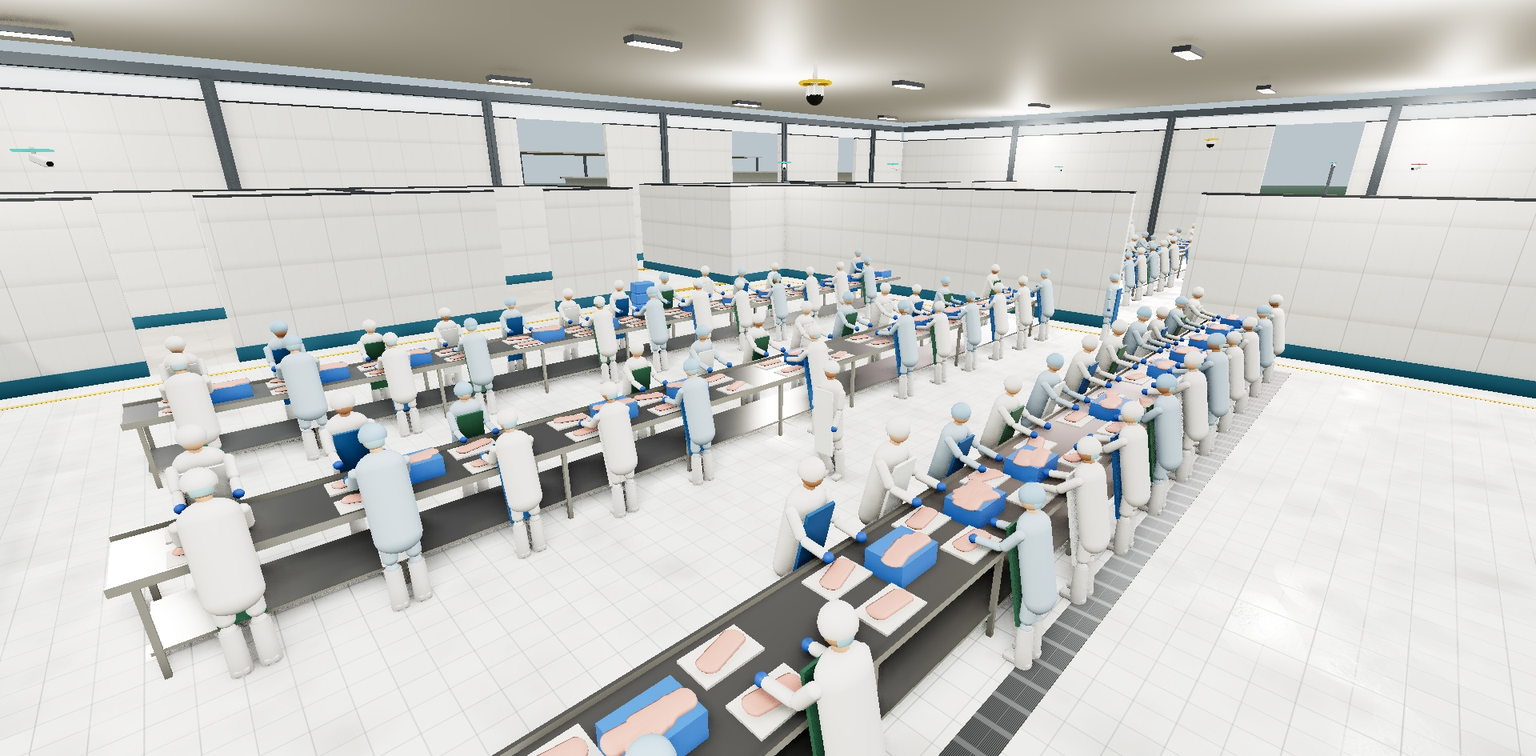apron: (182, 503, 268, 631), (797, 641, 871, 756), (177, 456, 251, 563), (355, 456, 422, 568), (994, 514, 1048, 628), (786, 492, 835, 617), (328, 421, 387, 517), (870, 449, 917, 558), (1052, 466, 1102, 567), (1096, 429, 1144, 520), (168, 379, 223, 457), (492, 436, 539, 524), (1132, 400, 1176, 483), (935, 429, 975, 515), (282, 359, 329, 432), (166, 360, 215, 430), (451, 406, 493, 483), (1161, 377, 1203, 453), (595, 407, 633, 487), (987, 401, 1025, 479), (270, 343, 312, 409), (1185, 357, 1224, 428), (1030, 377, 1066, 450), (1065, 358, 1100, 426), (677, 383, 709, 456), (381, 353, 417, 413), (1094, 342, 1128, 405), (625, 363, 655, 429), (1207, 351, 1240, 410), (1120, 328, 1152, 388), (361, 339, 394, 393), (1224, 337, 1256, 392), (461, 338, 492, 394), (801, 346, 827, 410), (812, 386, 835, 458), (691, 346, 717, 408), (1239, 324, 1269, 376), (1251, 313, 1281, 363), (437, 326, 466, 377), (889, 320, 914, 376), (1141, 325, 1169, 375), (747, 333, 770, 390), (590, 314, 615, 365), (502, 315, 528, 364), (1161, 314, 1187, 362), (795, 320, 817, 375), (1178, 304, 1204, 350), (836, 310, 858, 362), (560, 305, 583, 352), (643, 304, 665, 353), (873, 301, 894, 350), (926, 318, 947, 365), (957, 308, 978, 353), (689, 295, 709, 342), (611, 297, 632, 341), (984, 299, 1005, 342), (656, 289, 676, 332), (1009, 291, 1029, 333), (1031, 284, 1051, 324), (905, 300, 924, 341), (697, 282, 715, 323), (934, 292, 952, 332), (983, 279, 1001, 316), (732, 295, 749, 334), (769, 287, 784, 326), (802, 281, 817, 318), (832, 275, 847, 311), (859, 270, 874, 305), (1110, 288, 1123, 326), (735, 282, 749, 317), (1117, 263, 1133, 293), (768, 276, 782, 310), (1129, 259, 1145, 288), (850, 261, 864, 293)
glove: (750, 664, 773, 696), (798, 631, 819, 659), (629, 741, 657, 756), (820, 547, 837, 568), (174, 523, 192, 542), (853, 527, 870, 547), (172, 500, 189, 518), (237, 506, 254, 524), (231, 485, 247, 502), (341, 472, 357, 489), (909, 494, 925, 511), (966, 530, 982, 547), (987, 514, 1002, 531), (934, 479, 949, 495), (331, 458, 346, 473), (1023, 478, 1038, 493), (390, 459, 404, 475), (1040, 466, 1055, 480), (377, 446, 391, 460), (975, 462, 989, 476), (992, 451, 1006, 465), (1071, 440, 1085, 454), (1085, 431, 1098, 444), (478, 450, 490, 463), (1027, 429, 1040, 441), (1110, 412, 1123, 424), (1042, 420, 1054, 432), (1121, 404, 1134, 415), (458, 434, 469, 446), (512, 440, 523, 452), (577, 417, 588, 429), (1070, 402, 1082, 413), (1081, 395, 1093, 406), (1139, 386, 1151, 397), (829, 423, 840, 435), (163, 391, 174, 402), (604, 410, 615, 421), (163, 383, 174, 393), (203, 384, 214, 394), (491, 426, 501, 437), (1103, 380, 1114, 390), (1113, 374, 1124, 384), (1149, 380, 1160, 390), (201, 377, 211, 387), (274, 370, 284, 380), (638, 384, 648, 394), (1173, 361, 1184, 370), (1165, 367, 1176, 376), (270, 364, 280, 373), (308, 365, 318, 374), (684, 388, 693, 398), (661, 395, 670, 405), (1130, 362, 1140, 371), (1139, 357, 1149, 366), (816, 414, 825, 424), (303, 359, 312, 368), (661, 379, 670, 388), (799, 350, 808, 359), (782, 355, 791, 364), (1155, 347, 1165, 355), (706, 366, 714, 375), (762, 350, 770, 359), (1163, 342, 1172, 350), (1194, 361, 1203, 369), (373, 362, 381, 370), (725, 361, 733, 369), (779, 346, 787, 354), (1200, 357, 1209, 364), (1217, 342, 1226, 349), (1212, 346, 1221, 353), (1193, 327, 1202, 334), (1224, 331, 1233, 338), (364, 356, 372, 363), (389, 352, 397, 359), (399, 358, 407, 365), (474, 342, 482, 349), (451, 346, 459, 353), (812, 336, 819, 344), (826, 333, 834, 340), (903, 311, 911, 318), (1172, 340, 1180, 347), (1178, 336, 1186, 343), (1199, 324, 1207, 331), (1229, 328, 1237, 335), (1238, 320, 1246, 327), (442, 341, 449, 348), (464, 337, 471, 344), (508, 329, 515, 336), (854, 325, 861, 332), (867, 322, 874, 329), (887, 326, 894, 333), (874, 329, 881, 336), (892, 314, 899, 321), (1210, 317, 1218, 323), (1214, 314, 1222, 320), (1242, 317, 1250, 323), (567, 319, 574, 325), (579, 322, 586, 328), (618, 309, 625, 315), (647, 308, 653, 315), (631, 311, 637, 318), (691, 300, 698, 306), (922, 322, 929, 328), (912, 325, 919, 331), (944, 315, 951, 321), (528, 326, 534, 332), (585, 316, 591, 322), (597, 319, 603, 325), (666, 300, 672, 306), (677, 302, 683, 308), (921, 311, 927, 317), (954, 312, 960, 318), (981, 303, 987, 309), (999, 298, 1005, 304), (634, 307, 640, 312), (680, 298, 686, 303), (707, 293, 713, 298), (720, 291, 726, 296), (931, 309, 937, 314), (951, 303, 957, 308), (959, 301, 965, 306), (973, 306, 979, 311), (1006, 296, 1012, 301), (1026, 288, 1032, 293), (1019, 290, 1025, 295), (1106, 307, 1112, 312), (1111, 305, 1117, 310), (734, 300, 739, 305), (723, 302, 728, 307), (744, 291, 749, 296), (755, 289, 760, 294), (770, 292, 775, 297), (759, 294, 764, 299), (802, 285, 807, 290), (1126, 263, 1131, 267), (787, 283, 791, 288), (792, 287, 797, 291), (832, 280, 837, 284), (858, 274, 863, 278), (849, 276, 854, 280), (1000, 289, 1005, 293), (1007, 287, 1012, 291), (1123, 264, 1127, 268), (777, 285, 781, 289), (823, 282, 827, 286), (861, 269, 865, 273), (869, 268, 873, 272), (1114, 268, 1118, 271), (1110, 269, 1114, 272)
hairnet: (805, 580, 870, 654), (607, 704, 690, 756), (173, 456, 221, 500), (791, 446, 835, 488), (1010, 472, 1053, 512), (351, 413, 392, 450), (880, 407, 919, 442), (170, 416, 210, 450), (1070, 428, 1108, 461), (324, 384, 359, 413), (1115, 394, 1150, 422), (946, 396, 978, 423), (491, 402, 522, 429), (1150, 368, 1183, 392), (999, 370, 1029, 393), (595, 376, 623, 400), (1179, 346, 1209, 368), (449, 376, 477, 399), (163, 348, 192, 370), (1042, 348, 1070, 369), (1202, 328, 1231, 348), (278, 329, 305, 350), (678, 353, 703, 375), (161, 332, 188, 352), (1078, 331, 1104, 350), (266, 317, 291, 335), (820, 357, 844, 375), (1108, 316, 1133, 333), (625, 337, 648, 355), (1222, 327, 1246, 344), (804, 320, 826, 338), (1134, 303, 1157, 319), (692, 321, 713, 338), (379, 329, 401, 345), (1239, 314, 1261, 329), (1253, 302, 1275, 316), (749, 309, 768, 325), (359, 316, 379, 331), (460, 315, 480, 330), (894, 297, 914, 312), (435, 304, 454, 318), (1153, 304, 1173, 317), (1266, 292, 1286, 305), (798, 298, 816, 312), (590, 293, 608, 306), (840, 289, 858, 302), (877, 280, 895, 293), (1190, 284, 1208, 297), (1173, 294, 1192, 306), (502, 294, 519, 307), (931, 298, 948, 311), (643, 284, 660, 296), (560, 286, 576, 298), (690, 276, 706, 288), (990, 280, 1007, 291), (611, 278, 627, 289), (963, 289, 979, 300), (657, 270, 672, 281), (910, 282, 925, 293), (939, 274, 954, 285), (1015, 274, 1031, 284), (1038, 267, 1053, 277), (698, 264, 712, 274), (733, 278, 747, 288), (989, 262, 1003, 272), (770, 271, 783, 281), (861, 255, 874, 264), (1108, 272, 1122, 280), (736, 266, 748, 275), (804, 265, 816, 274), (834, 260, 846, 269), (1123, 250, 1135, 258), (769, 261, 781, 269), (853, 247, 864, 255), (1136, 246, 1147, 253)
person: (149, 441, 298, 697), (749, 547, 925, 756), (954, 457, 1089, 686), (758, 432, 875, 684), (149, 406, 278, 623), (325, 401, 448, 625), (1010, 415, 1140, 617), (843, 397, 956, 616), (538, 647, 757, 756), (1057, 384, 1179, 565), (304, 376, 411, 567), (1095, 360, 1210, 524), (912, 388, 1012, 562), (1124, 339, 1234, 490), (469, 393, 559, 569), (964, 363, 1061, 522), (148, 341, 242, 496), (1150, 323, 1254, 462), (1006, 343, 1101, 489), (572, 368, 651, 526), (432, 370, 513, 522), (1042, 326, 1131, 461), (262, 324, 346, 467), (148, 327, 233, 465), (1072, 312, 1157, 437), (253, 313, 329, 441), (658, 347, 725, 492), (1098, 300, 1180, 418), (1181, 323, 1265, 438), (1199, 310, 1280, 418), (609, 332, 674, 463), (1211, 298, 1292, 401), (365, 324, 431, 442), (781, 316, 843, 441), (1225, 289, 1303, 387), (676, 318, 735, 440), (806, 353, 858, 490), (1123, 301, 1193, 400), (445, 310, 506, 422), (1143, 291, 1213, 386), (870, 293, 930, 403), (348, 313, 408, 420), (1160, 282, 1229, 373), (734, 306, 787, 420), (782, 295, 835, 403), (424, 302, 480, 403), (823, 286, 876, 388), (859, 278, 913, 375), (576, 290, 627, 389), (908, 295, 962, 388), (490, 292, 541, 388), (940, 286, 993, 375), (628, 281, 676, 376), (968, 278, 1020, 363), (548, 284, 596, 375), (993, 272, 1044, 353), (675, 273, 720, 364), (1014, 265, 1065, 343), (600, 276, 644, 363), (893, 280, 939, 362), (922, 273, 968, 352), (646, 268, 688, 353), (687, 262, 727, 344), (971, 261, 1015, 334), (722, 276, 758, 353), (791, 263, 827, 336), (759, 269, 794, 344), (821, 258, 856, 328), (848, 254, 884, 321), (726, 265, 760, 335), (1104, 249, 1144, 308), (1117, 245, 1157, 302), (1095, 272, 1127, 343), (760, 259, 792, 327), (842, 246, 875, 308)
